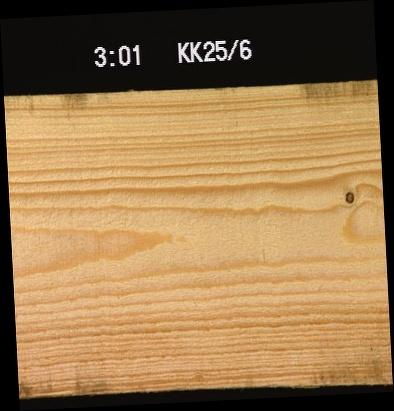dry_knot: (341, 187, 356, 205)
